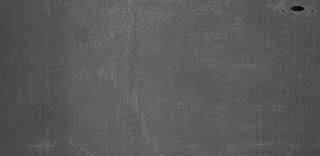punching hole: (290, 3, 304, 12)
